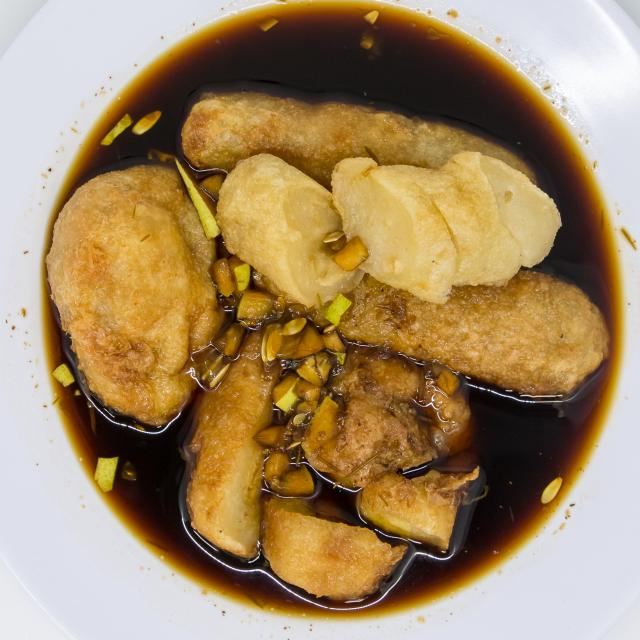Pempek-Palembang: (44, 67, 618, 610)
